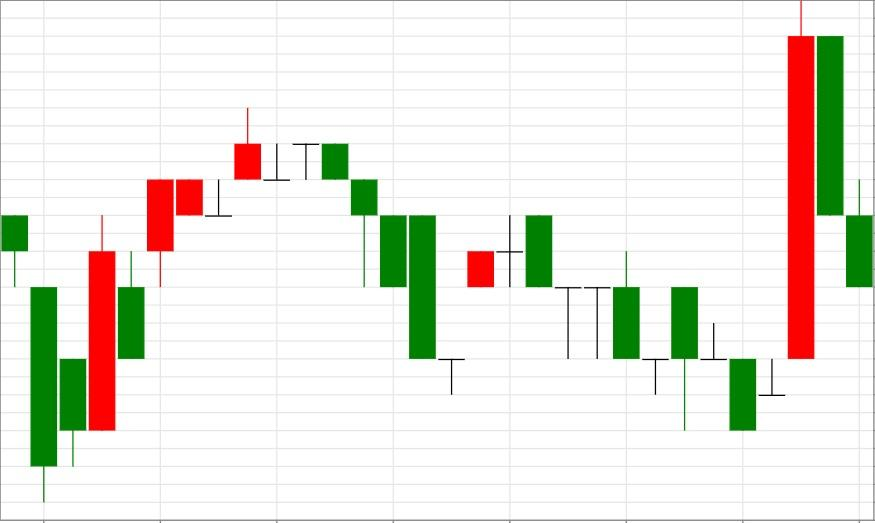three_black_crows_fall: (29, 107, 408, 503)
